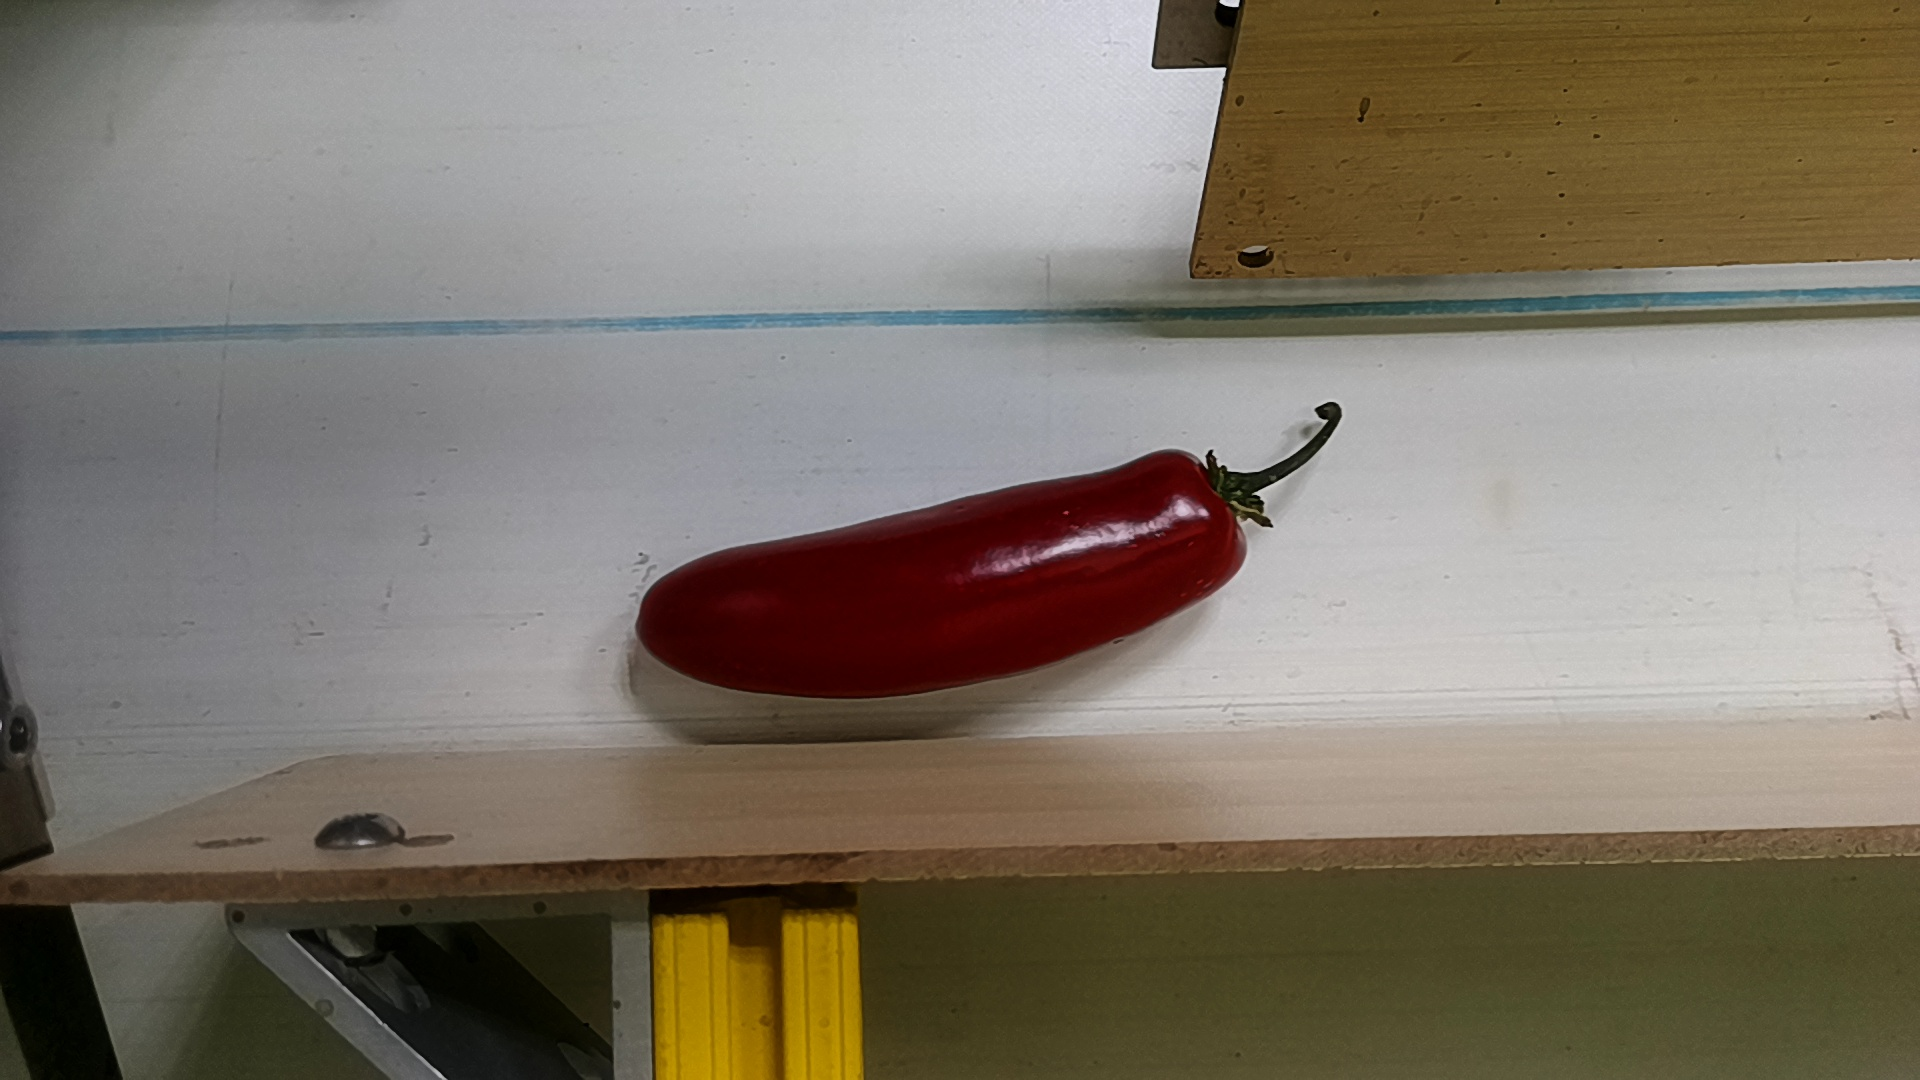Cut Point: (1160, 434, 1270, 597)
